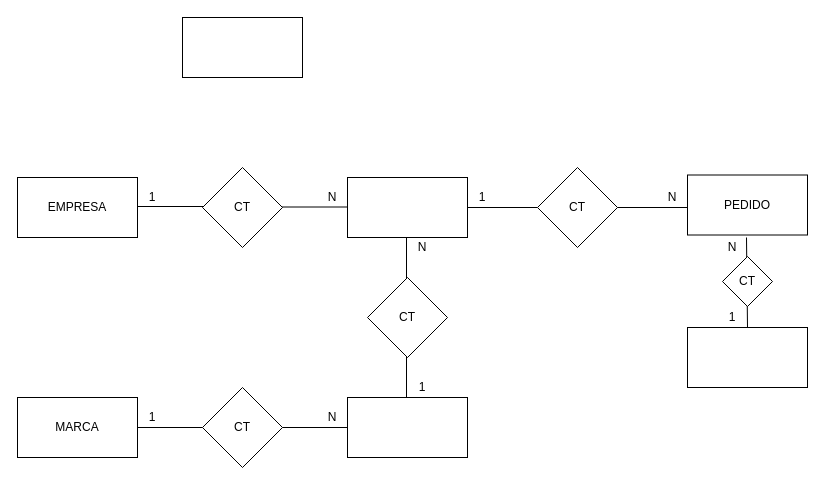
Image size: 825x485. Some labels were removed from this diagram. Each missing label, with the box of its shape:
CLIENTE: (686, 326, 808, 388)
CONCEITUAL: (182, 16, 302, 78)
MODELO: (346, 396, 468, 458)
VEICULO: (346, 176, 468, 238)
